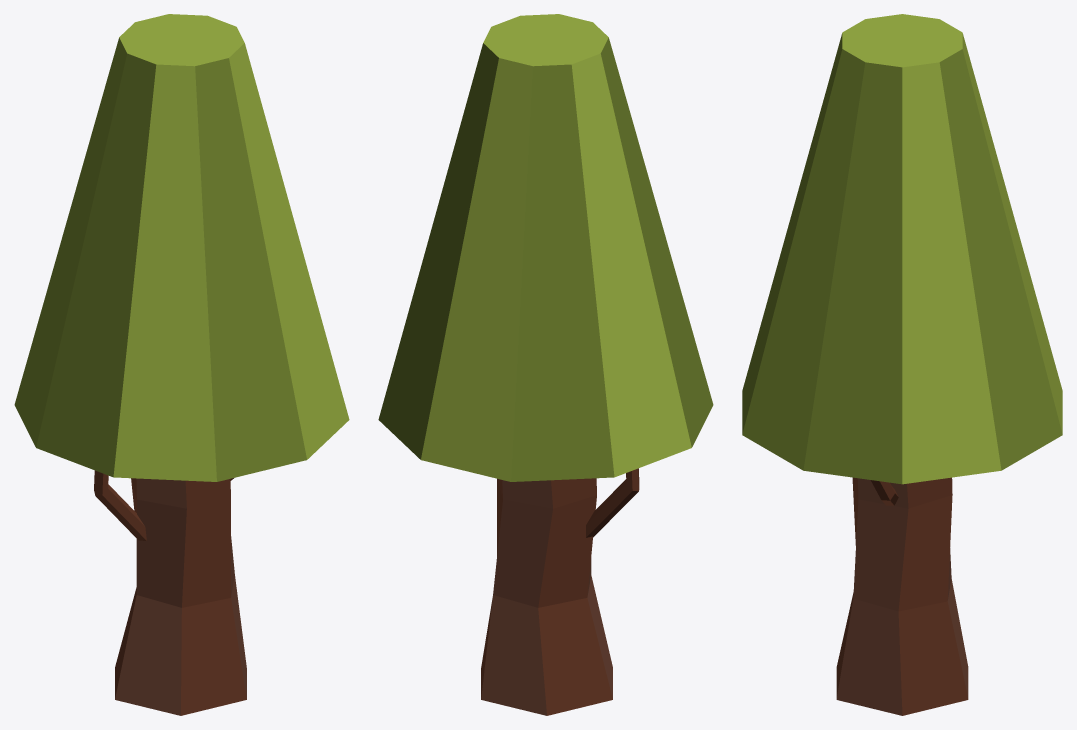
Rendered from tree7.fbx.
3 renders of one model, left to right at view 1: azimuth 30°, elevation 25°; view 2: azimuth 150°, elevation 25°; view 3: azimuth 270°, elevation 25°, orthographic.
Parts seen in each view (by area): view 1: Ağaç7_Mesh; view 2: Ağaç7_Mesh; view 3: Ağaç7_Mesh.
Boxes of the visible parts, x1,y1,x2,y2 form: Ağaç7_Mesh: (14, 14, 349, 715); Ağaç7_Mesh: (378, 14, 713, 715); Ağaç7_Mesh: (742, 14, 1062, 715).
Size of the model in its own units: 1.85 by 3.9 by 1.76.
